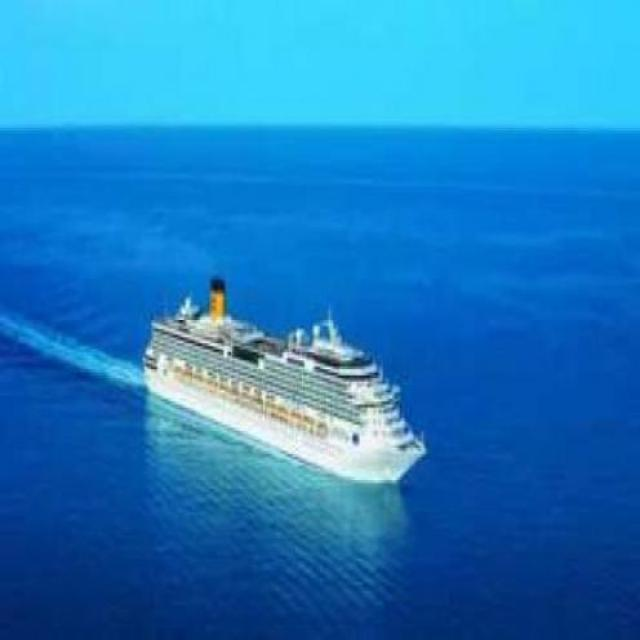boat: (130, 293, 436, 486)
